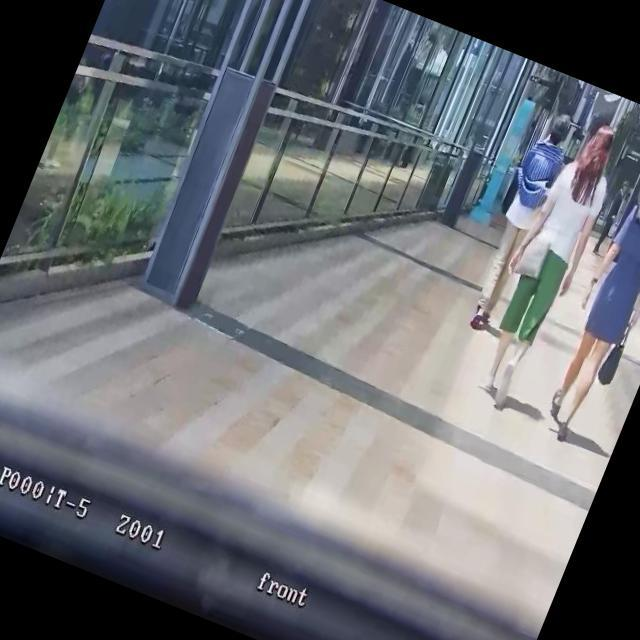person: (458, 108, 632, 417), (530, 156, 640, 452), (458, 105, 580, 334), (590, 178, 630, 256)
